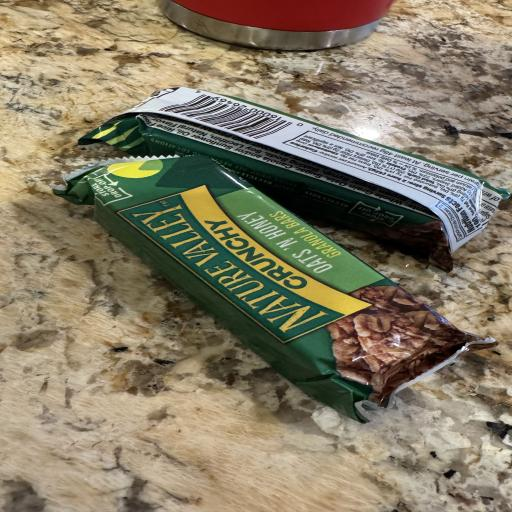granola: (54, 156, 494, 421), (80, 88, 508, 271)
